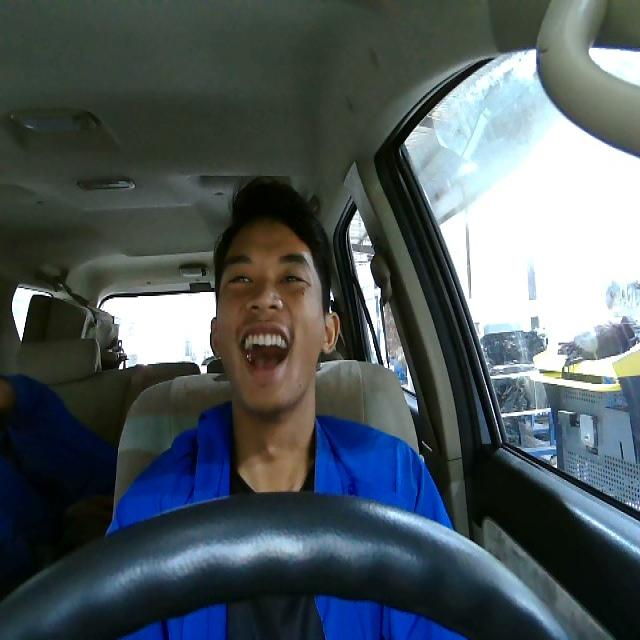yarning: (210, 217, 340, 412)
